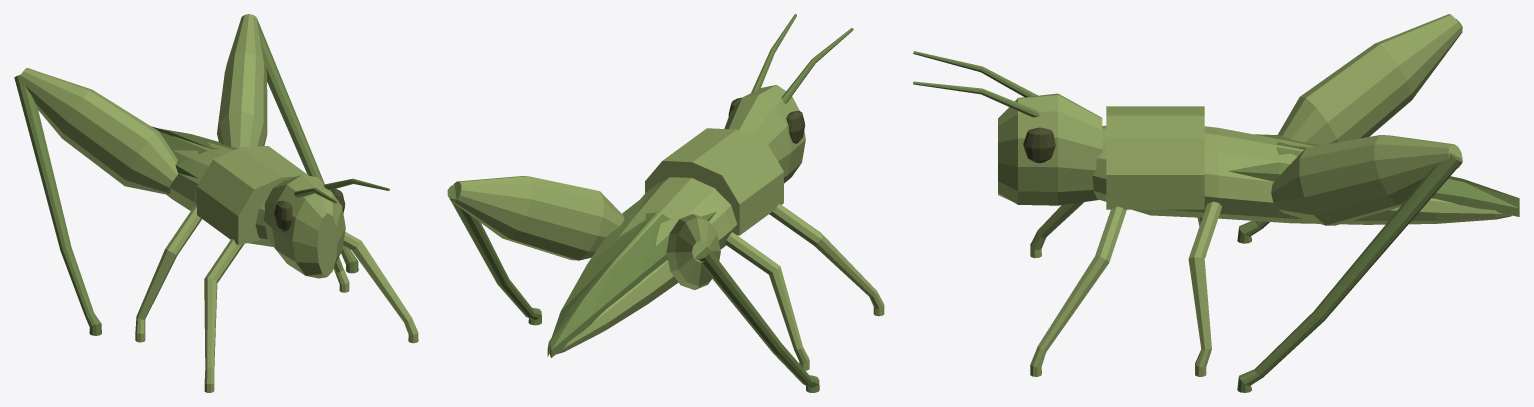
3 views of the same model, side by side, from view 1: azimuth 30°, elevation 25°; view 2: azimuth 150°, elevation 25°; view 3: azimuth 270°, elevation 25° (orthographic). The views are drawn at different scales.
Visible parts, largest first — view 1: WholeEnlargedHindFemur0, WholeBroadSaddlePronotum, WholeUprightWedgeHead, WholeEnlargedHindFemur1, WholeReturningHindTibiaAndToe0, WholeReturningHindTibiaAndToe1, WholeLowTaperedThoraxAndAbdomen, WholeThinWalkingLeg00, WholeThinWalkingLeg01, WholeThinWalkingLeg10, WholeNarrowFoldedForewing0, WholeNarrowFoldedForewing1 (+2 smaller); view 2: WholeEnlargedHindFemur1, WholeBroadSaddlePronotum, WholeLowTaperedThoraxAndAbdomen, WholeNarrowFoldedForewing0, WholeUprightWedgeHead, WholeEnlargedHindFemur0, WholeReturningHindTibiaAndToe0, WholeNarrowFoldedForewing1, WholeThinWalkingLeg01, WholeReturningHindTibiaAndToe1, WholeThinWalkingLeg00, WholeShortForwardAntenna0 (+2 smaller); view 3: WholeEnlargedHindFemur0, WholeEnlargedHindFemur1, WholeBroadSaddlePronotum, WholeLowTaperedThoraxAndAbdomen, WholeUprightWedgeHead, WholeReturningHindTibiaAndToe1, WholeThinWalkingLeg10, WholeNarrowFoldedForewing1, WholeThinWalkingLeg11, WholeLateralOvalEye1, WholeThinWalkingLeg00, WholeShortForwardAntenna1 (+1 smaller).
Boxes of the visible parts, x1,y1,x2,y2 form: WholeEnlargedHindFemur0: (18, 68, 177, 194); WholeBroadSaddlePronotum: (197, 146, 308, 245); WholeUprightWedgeHead: (263, 174, 345, 278); WholeEnlargedHindFemur1: (217, 14, 267, 147); WholeReturningHindTibiaAndToe0: (14, 74, 101, 335); WholeReturningHindTibiaAndToe1: (258, 21, 358, 273); WholeLowTaperedThoraxAndAbdomen: (166, 136, 273, 246); WholeThinWalkingLeg00: (204, 239, 244, 392); WholeThinWalkingLeg01: (135, 206, 201, 342); WholeThinWalkingLeg10: (343, 232, 418, 343); WholeNarrowFoldedForewing0: (160, 132, 207, 178); WholeNarrowFoldedForewing1: (151, 126, 237, 150); WholeEnlargedHindFemur1: (450, 176, 624, 260); WholeBroadSaddlePronotum: (645, 128, 783, 235); WholeLowTaperedThoraxAndAbdomen: (556, 177, 737, 354); WholeNarrowFoldedForewing0: (550, 212, 716, 357); WholeUprightWedgeHead: (724, 85, 805, 183); WholeEnlargedHindFemur0: (666, 214, 720, 289); WholeReturningHindTibiaAndToe0: (695, 246, 819, 392); WholeNarrowFoldedForewing1: (547, 194, 656, 356); WholeThinWalkingLeg01: (725, 232, 809, 370); WholeReturningHindTibiaAndToe1: (447, 184, 541, 325); WholeThinWalkingLeg00: (769, 204, 884, 316); WholeShortForwardAntenna0: (781, 28, 853, 103); WholeEnlargedHindFemur0: (1277, 14, 1462, 144); WholeEnlargedHindFemur1: (1271, 135, 1462, 225); WholeBroadSaddlePronotum: (1106, 106, 1204, 209); WholeLowTaperedThoraxAndAbdomen: (1092, 125, 1511, 224); WholeUprightWedgeHead: (998, 93, 1102, 205); WholeReturningHindTibiaAndToe1: (1237, 153, 1462, 392); WholeThinWalkingLeg10: (1030, 206, 1126, 376); WholeNarrowFoldedForewing1: (1228, 147, 1519, 216); WholeThinWalkingLeg11: (1188, 201, 1221, 376); WholeLateralOvalEye1: (1023, 127, 1055, 163); WholeThinWalkingLeg00: (1030, 202, 1083, 258); WholeShortForwardAntenna1: (913, 81, 1039, 117).
Size of the model in its own units: 0.9179 by 0.6839 by 1.51.
